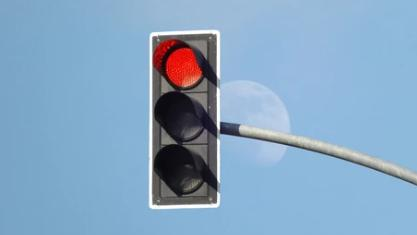red_light: (149, 30, 220, 209)
